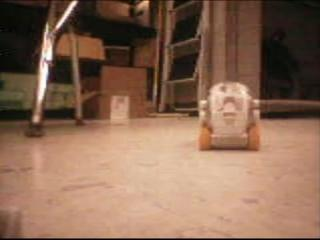cozmo: (198, 80, 261, 151)
